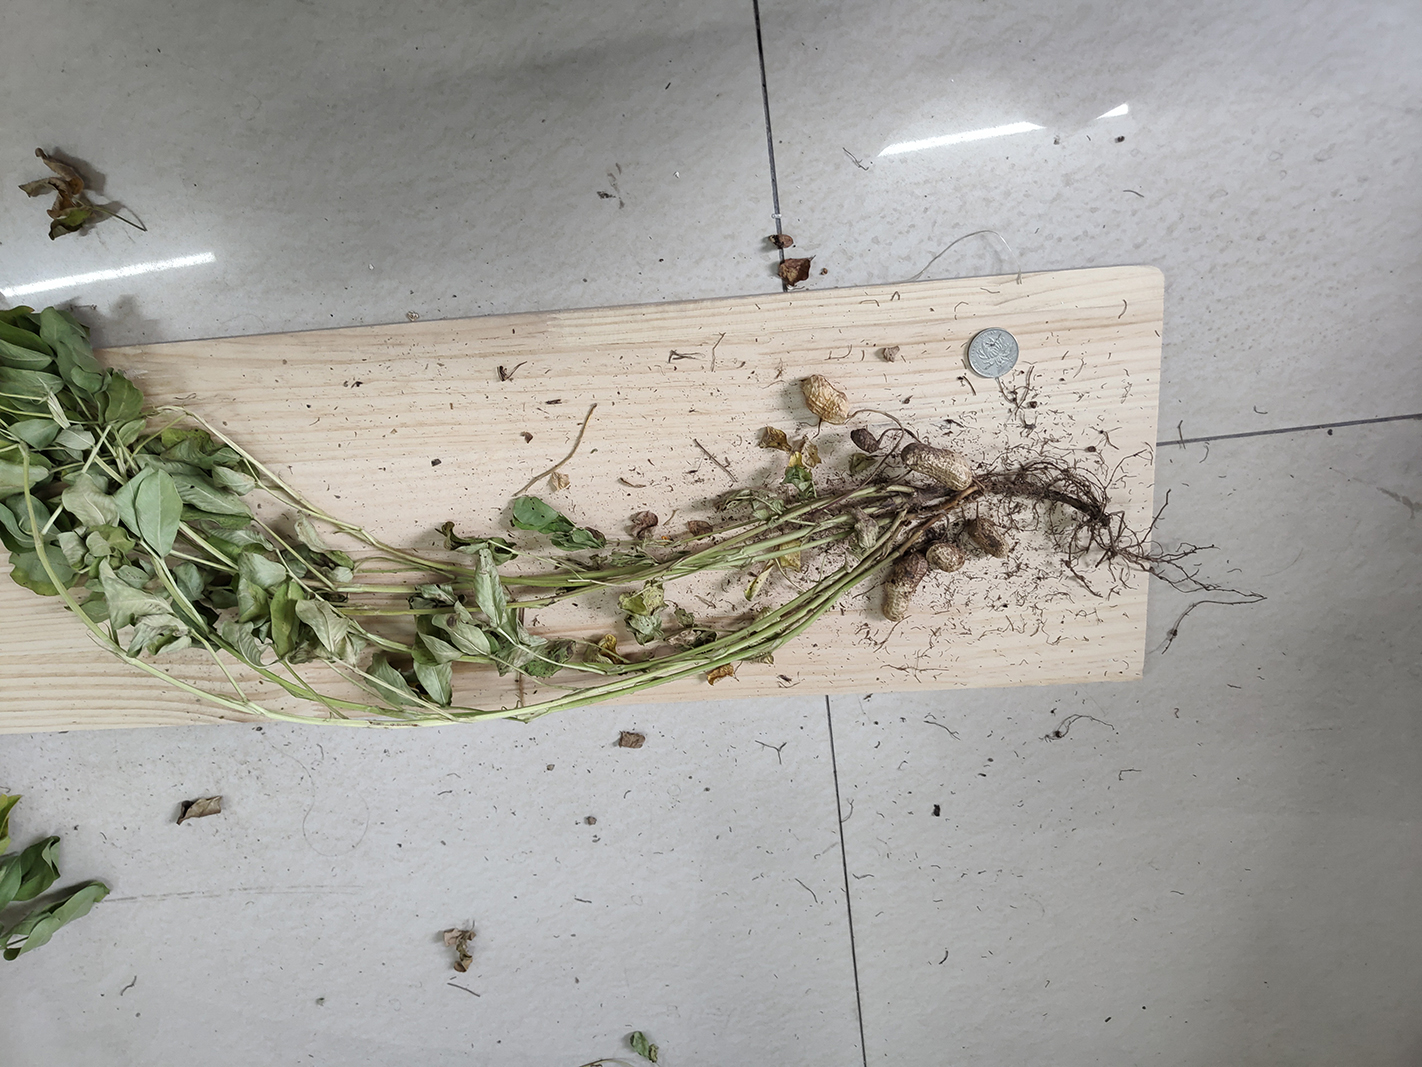h: (902, 442, 972, 489), (881, 551, 928, 620), (802, 372, 849, 426), (926, 541, 965, 572)
l: (969, 517, 1009, 557), (848, 428, 880, 454)
